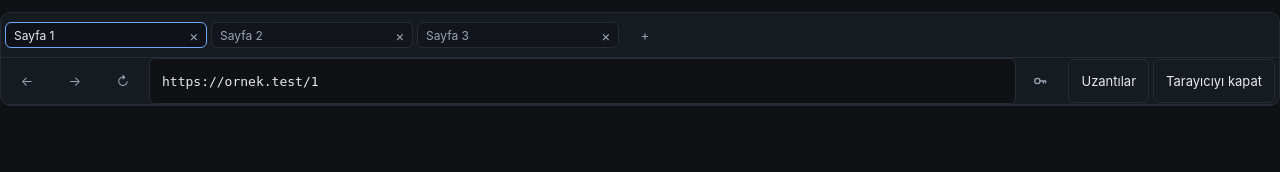
Scenario: BrowserTabsPanel: tab strip › click selects, + opens a new tab, × closes that tab
The width and height of the screenshot is (1280, 172).
Click the button "Sayfa 2".
click(300, 35)  # box [212,23,388,47]
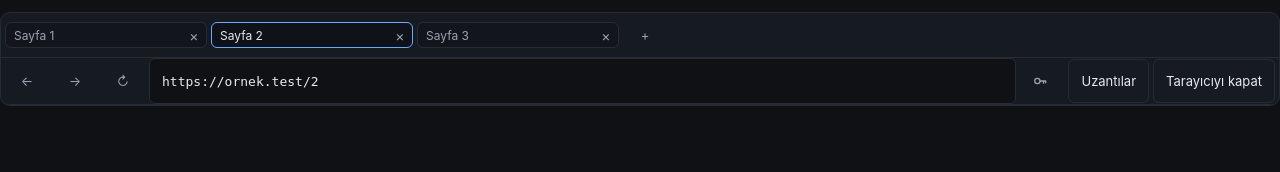
Result: the button "Sayfa 2" is pressed at [212,23,388,47]
Click the button named "Yeni sekme".
click(645, 35)  # box [623,13,667,57]
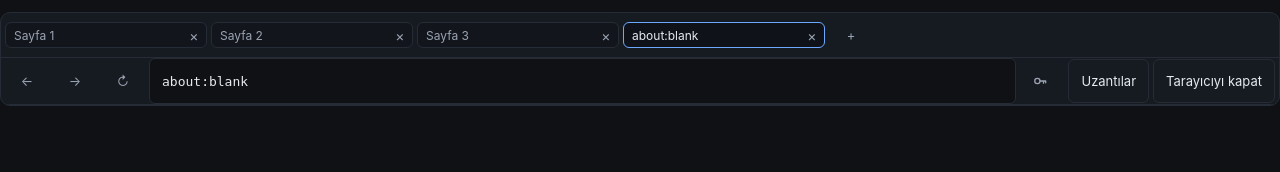
Result: the number of buttons "Sayfa 1" is 4 at [6,23,182,47]; [212,23,388,47]; [418,23,594,47]; [624,23,800,47]
Click the button named "Sekmeyi kapat: Sayfa 1".
click(194, 35)  # box [182,23,206,47]
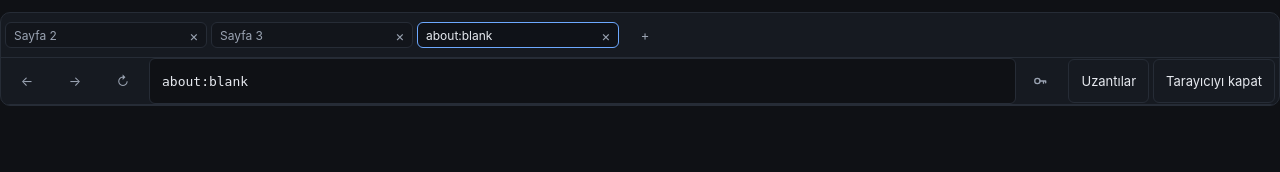
Result: the button "Sayfa 1" is gone
